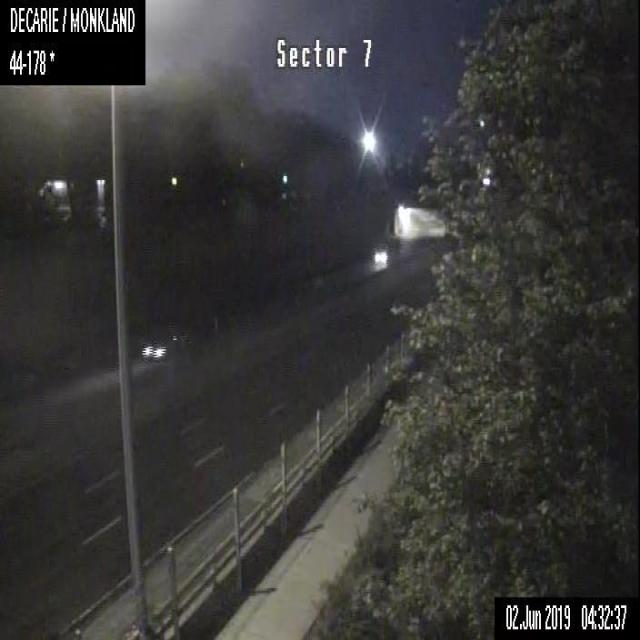vehicle: (138, 329, 190, 363)
